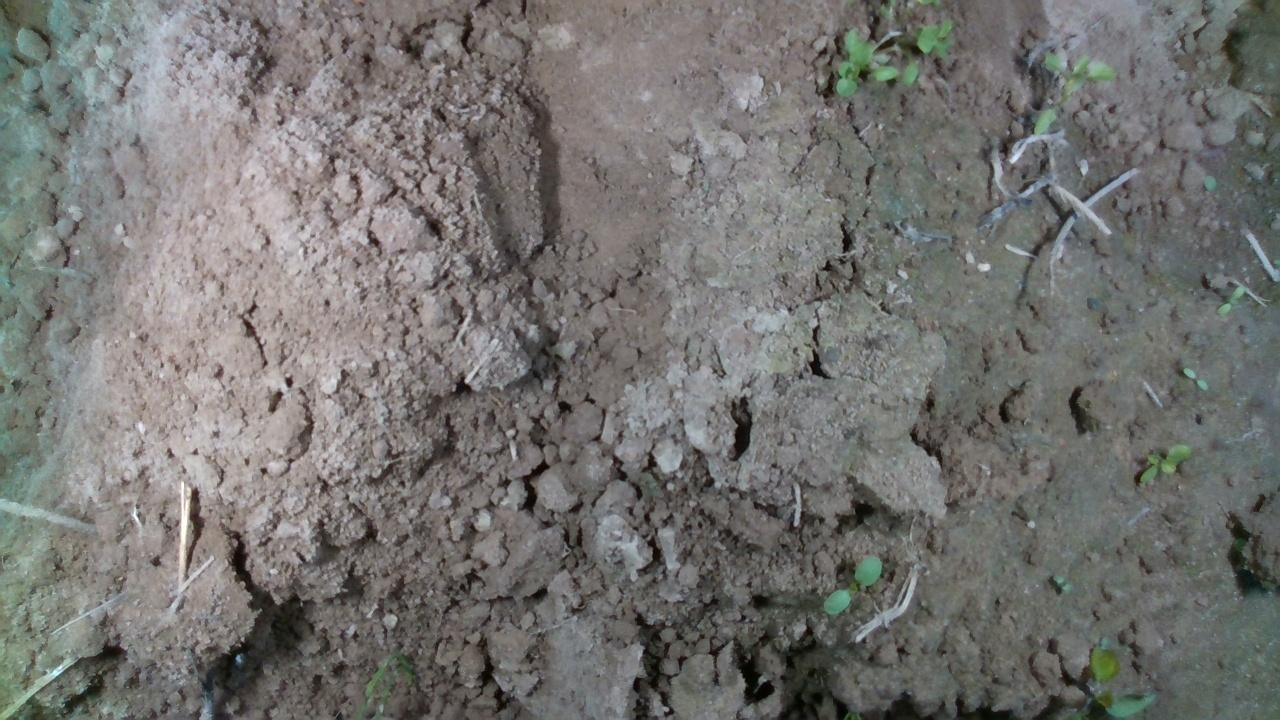weed: (821, 553, 881, 615), (1137, 441, 1192, 484), (1214, 283, 1244, 317), (1180, 366, 1208, 390)
